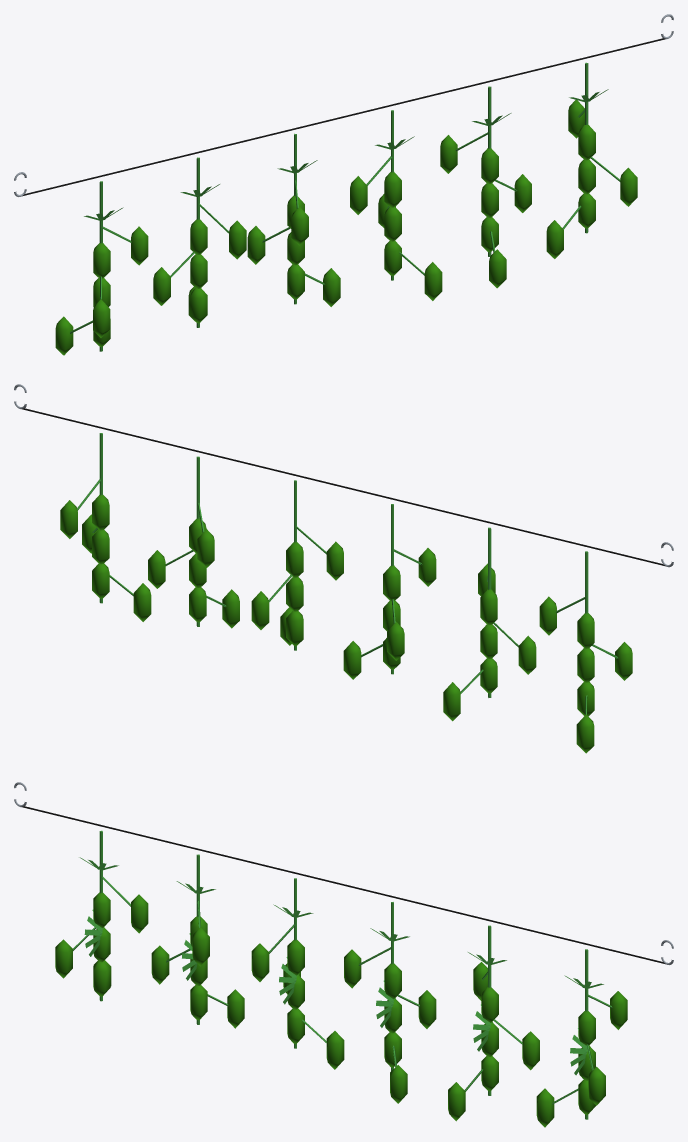
File: hanging-line-branches.glb
3 views of the same model, one above another, from view 1: azimuth 30°, elevation 25°; view 2: azimuth 150°, elevation 25°; view 3: azimuth 330°, elevation 25° (orthographic).
Parts seen in each view (by area): view 1: branch_buds, branch_stems, line_cord; view 2: branch_buds, branch_stems, line_cord; view 3: branch_buds, branch_stems, line_cord.
Part boxes in pixels (<box>): branch_buds: <box>55,100,637,355</box>; branch_stems: <box>70,62,620,351</box>; line_cord: <box>22,38,665,196</box>; branch_buds: <box>60,494,632,753</box>; branch_stems: <box>77,433,618,714</box>; line_cord: <box>22,408,665,566</box>; branch_buds: <box>55,892,627,1127</box>; branch_stems: <box>73,830,612,1119</box>; line_cord: <box>22,806,665,964</box>.
Size of the model in its own units: 1.22 by 0.377 by 0.1618.
